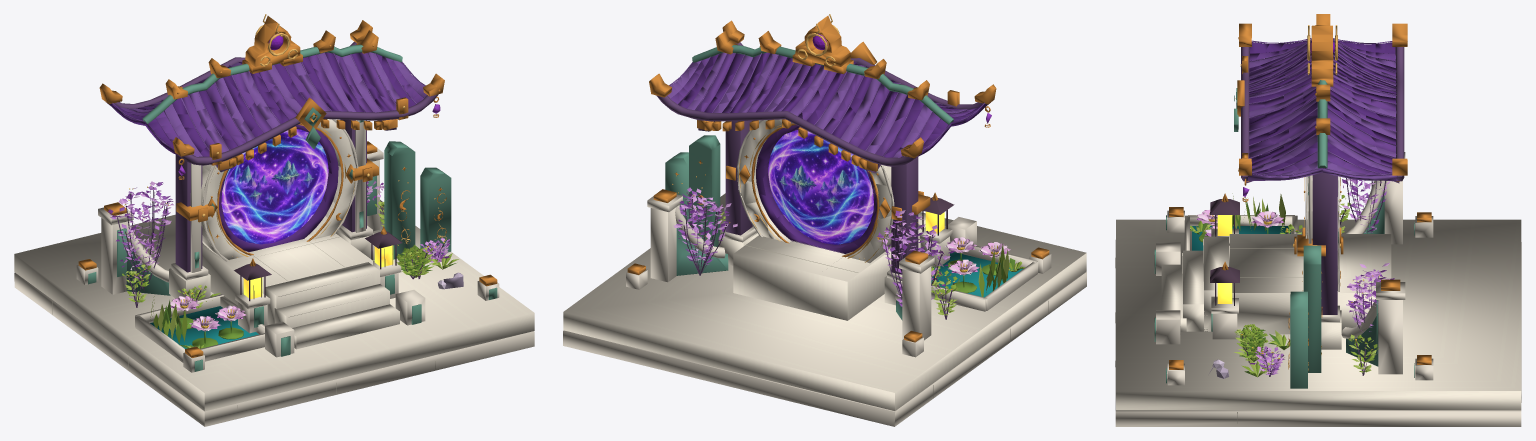
Rendered from secret-lod2-44c38e5ca1bf.glb.
3 views of the same model, side by side, from view 1: azimuth 30°, elevation 25°; view 2: azimuth 150°, elevation 25°; view 3: azimuth 270°, elevation 25° (orthographic). The views are drawn at different scales.
Parts seen in each view (by area): view 1: GEO-export-MAT-secret-stone-light.008, GEO-export-MAT-secret-ivory.008, GEO-export-MAT-secret-jade-light.008, GEO-export-MAT-secret-gold.008, GEO-export-MAT-secret-portal-field.008, GEO-export-MAT-secret-roof-purple-0.008, GEO-export-MAT-secret-roof-purple-2.008, GEO-export-MAT-secret-purple-wood.008, GEO-export-MAT-secret-roof-purple-1.008, GEO-export-MAT-secret-lotus-water.008, GEO-export-MAT-secret-garden-green-1.008, GEO-export-MAT-secret-dark-bronze.008 (+8 smaller); view 2: GEO-export-MAT-secret-stone-light.008, GEO-export-MAT-secret-ivory.008, GEO-export-MAT-secret-portal-field.008, GEO-export-MAT-secret-gold.008, GEO-export-MAT-secret-purple-wood.008, GEO-export-MAT-secret-roof-purple-0.008, GEO-export-MAT-secret-roof-purple-2.008, GEO-export-MAT-secret-roof-purple-1.008, GEO-export-MAT-secret-jade-light.008, GEO-export-MAT-secret-jade.008, GEO-export-MAT-secret-lotus-water.008, GEO-export-MAT-secret-bloom-foliage-3.008 (+7 smaller); view 3: GEO-export-MAT-secret-stone-light.008, GEO-export-MAT-secret-ivory.008, GEO-export-MAT-secret-roof-purple-2.008, GEO-export-MAT-secret-roof-purple-0.008, GEO-export-MAT-secret-roof-purple-1.008, GEO-export-MAT-secret-purple-wood.008, GEO-export-MAT-secret-gold.008, GEO-export-MAT-secret-jade-light.008, GEO-export-MAT-secret-jade.008, GEO-export-MAT-secret-garden-green-1.008, GEO-export-MAT-secret-dark-bronze.008, GEO-export-MAT-secret-garden-green-2.008 (+7 smaller).
Boxes of the visible parts, box(x1,y1,x2,y2) form: GEO-export-MAT-secret-stone-light.008: box(14, 119, 534, 411); GEO-export-MAT-secret-ivory.008: box(14, 119, 534, 426); GEO-export-MAT-secret-jade-light.008: box(88, 44, 497, 371); GEO-export-MAT-secret-gold.008: box(78, 16, 497, 357); GEO-export-MAT-secret-portal-field.008: box(221, 129, 328, 244); GEO-export-MAT-secret-roof-purple-0.008: box(110, 52, 415, 251); GEO-export-MAT-secret-roof-purple-2.008: box(112, 52, 426, 156); GEO-export-MAT-secret-purple-wood.008: box(106, 41, 444, 307); GEO-export-MAT-secret-roof-purple-1.008: box(120, 52, 423, 149); GEO-export-MAT-secret-lotus-water.008: box(150, 306, 258, 348); GEO-export-MAT-secret-garden-green-1.008: box(122, 203, 458, 348); GEO-export-MAT-secret-dark-bronze.008: box(234, 231, 402, 301); GEO-export-MAT-secret-stone-light.008: box(563, 119, 1086, 410); GEO-export-MAT-secret-ivory.008: box(563, 120, 1086, 426); GEO-export-MAT-secret-portal-field.008: box(768, 130, 873, 244); GEO-export-MAT-secret-gold.008: box(627, 15, 1049, 342); GEO-export-MAT-secret-purple-wood.008: box(656, 42, 989, 319); GEO-export-MAT-secret-roof-purple-0.008: box(679, 52, 986, 253); GEO-export-MAT-secret-roof-purple-2.008: box(667, 52, 984, 157); GEO-export-MAT-secret-roof-purple-1.008: box(671, 53, 976, 156); GEO-export-MAT-secret-jade-light.008: box(665, 45, 953, 246); GEO-export-MAT-secret-jade.008: box(676, 223, 902, 320); GEO-export-MAT-secret-lotus-water.008: box(931, 252, 1022, 297); GEO-export-MAT-secret-bloom-foliage-3.008: box(673, 188, 950, 296); GEO-export-MAT-secret-stone-light.008: box(1116, 175, 1521, 410); GEO-export-MAT-secret-ivory.008: box(1115, 152, 1521, 426); GEO-export-MAT-secret-roof-purple-2.008: box(1246, 38, 1399, 181); GEO-export-MAT-secret-roof-purple-0.008: box(1249, 39, 1396, 175); GEO-export-MAT-secret-roof-purple-1.008: box(1249, 41, 1396, 181); GEO-export-MAT-secret-purple-wood.008: box(1241, 47, 1404, 376); GEO-export-MAT-secret-gold.008: box(1169, 14, 1431, 369); GEO-export-MAT-secret-jade-light.008: box(1154, 80, 1414, 388); GEO-export-MAT-secret-jade.008: box(1234, 88, 1384, 366); GEO-export-MAT-secret-garden-green-1.008: box(1190, 195, 1377, 377); GEO-export-MAT-secret-dark-bronze.008: box(1210, 199, 1239, 305); GEO-export-MAT-secret-garden-green-2.008: box(1190, 193, 1378, 376).
Size of the model in its own units: 9.99 by 8.58 by 9.99.
Materials: 44 (7 with a texture image).
